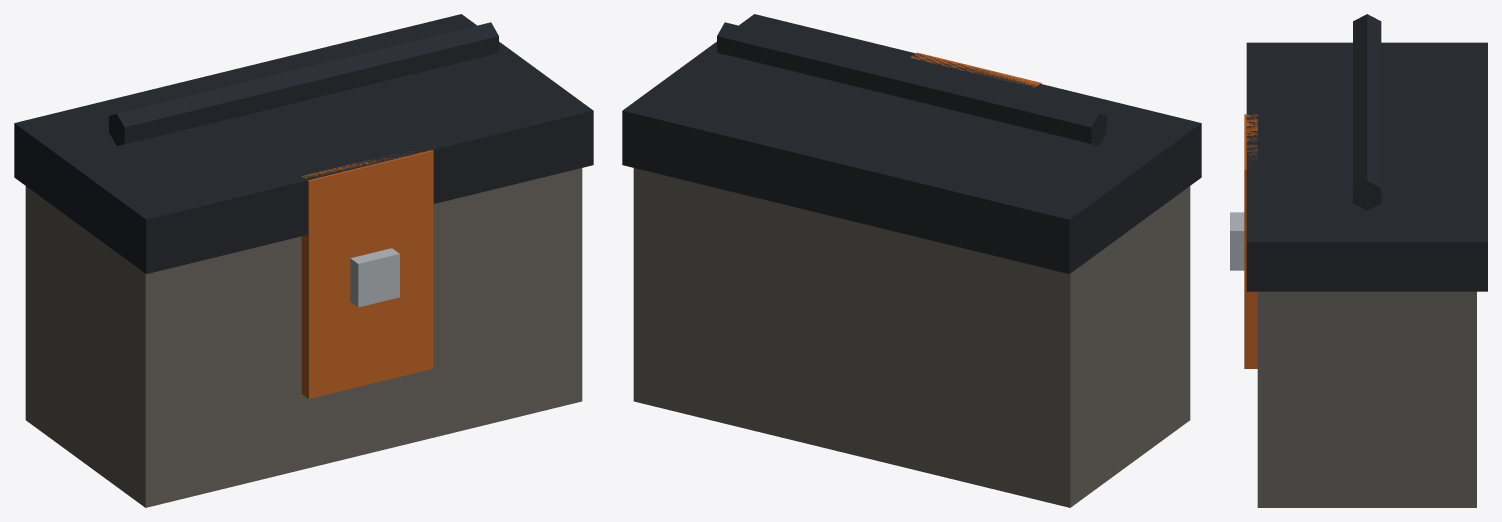
The model's file is kit-bag.glb.
3 views of the same model, side by side, from view 1: azimuth 30°, elevation 25°; view 2: azimuth 150°, elevation 25°; view 3: azimuth 270°, elevation 25° (orthographic). The views are drawn at different scales.
Parts seen in each view (by area): view 1: kit-bag; view 2: kit-bag; view 3: kit-bag.
Boxes of the visible parts, x1,y1,x2,y2 form: kit-bag: (14, 14, 593, 507); kit-bag: (622, 14, 1201, 507); kit-bag: (1230, 14, 1487, 507).
Size of the model in its own units: 0.43 by 0.315 by 0.235.
